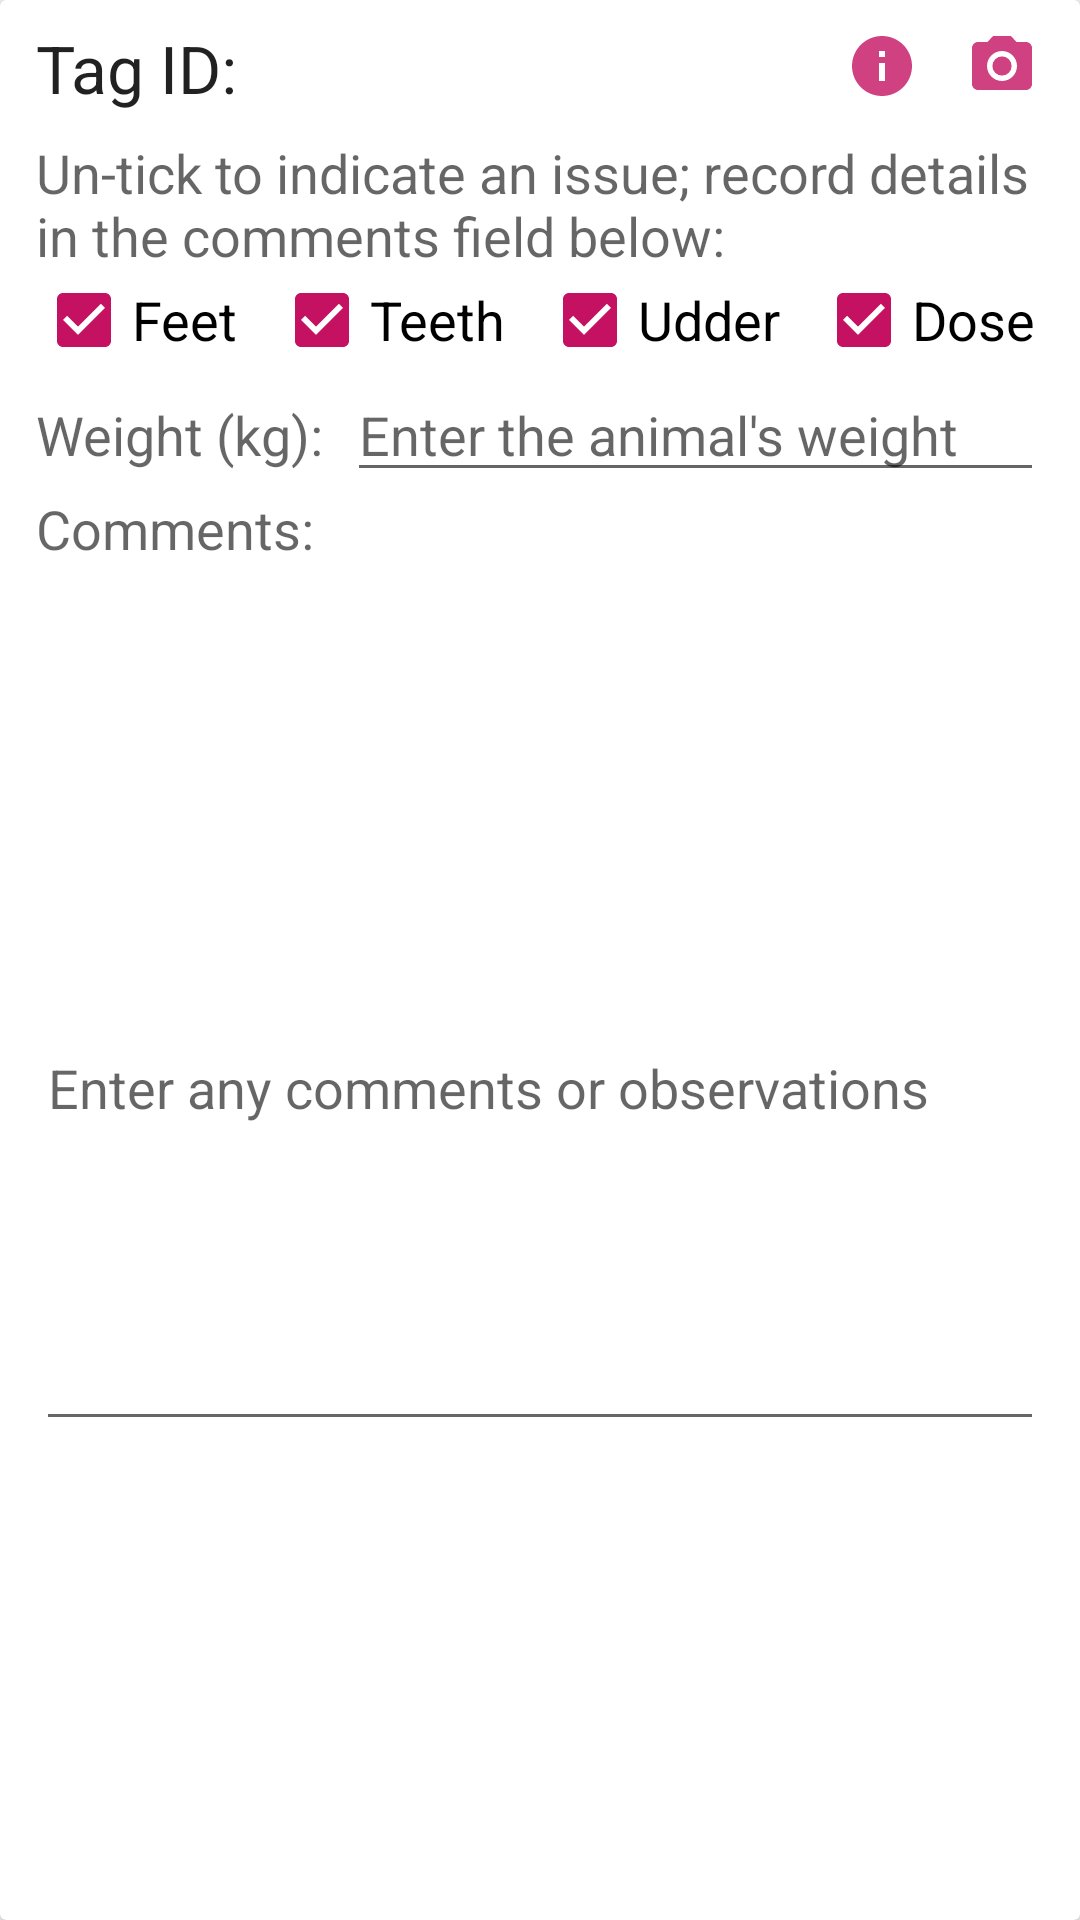

Screen size 1080×1920. Icon name, then its box in pixels as (x1, y1, x2, y2):
Additional information about this animal: (852, 36, 912, 96)
Take a photo of this tagged animal: (972, 36, 1032, 90)
